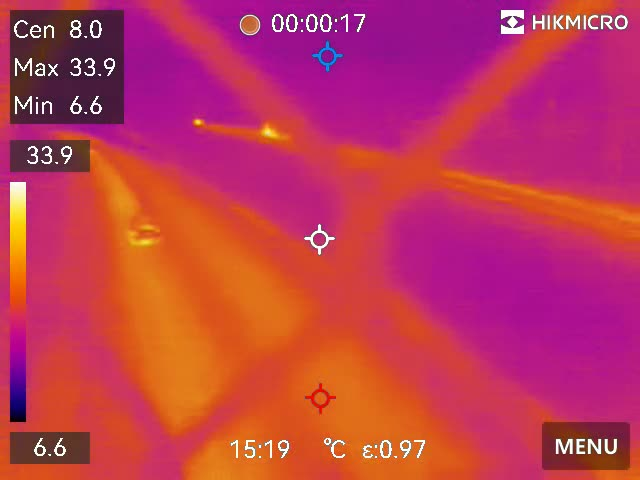vehicle: (125, 210, 164, 247)
